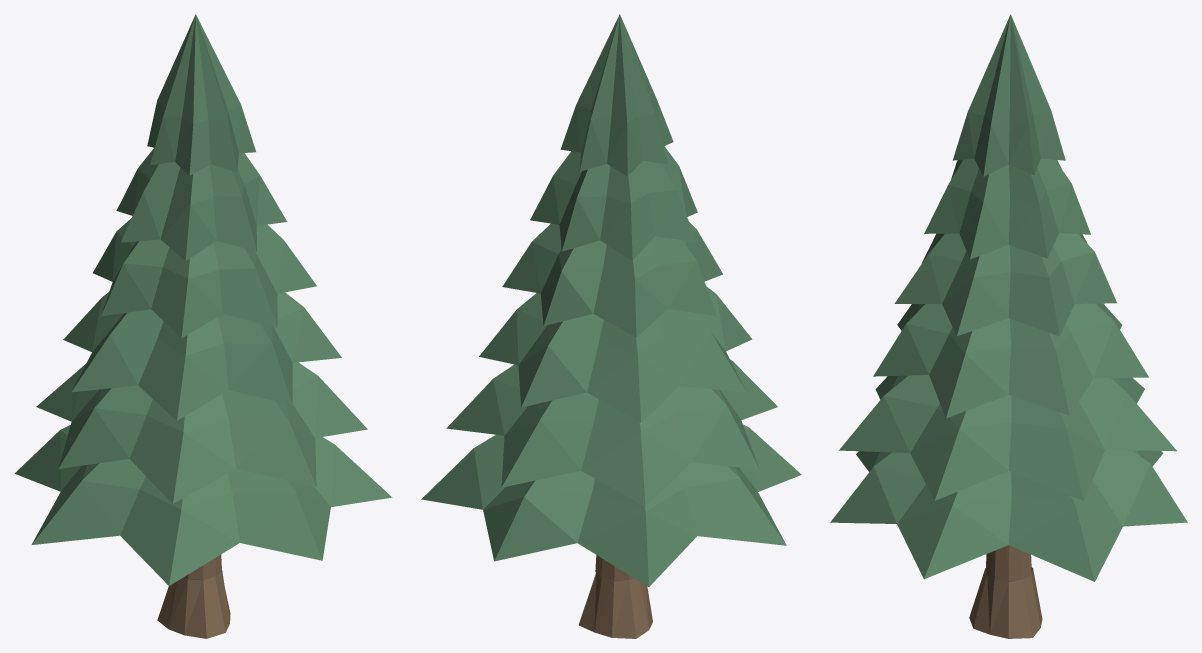
File: Agac_Cam_01.fbx
3 renders of one model, left to right at view 1: azimuth 30°, elevation 25°; view 2: azimuth 150°, elevation 25°; view 3: azimuth 270°, elevation 25°, orthographic.
Parts seen in each view (by area): view 1: Agac_Cam_01_LOD0; view 2: Agac_Cam_01_LOD0; view 3: Agac_Cam_01_LOD0.
Part boxes in pixels (x1,y1,x2,y2): Agac_Cam_01_LOD0: [14, 14, 392, 638]; Agac_Cam_01_LOD0: [421, 14, 801, 638]; Agac_Cam_01_LOD0: [830, 14, 1187, 638].
Size of what is drawn, in the model's own units: 6.78 by 12.26 by 6.53.
